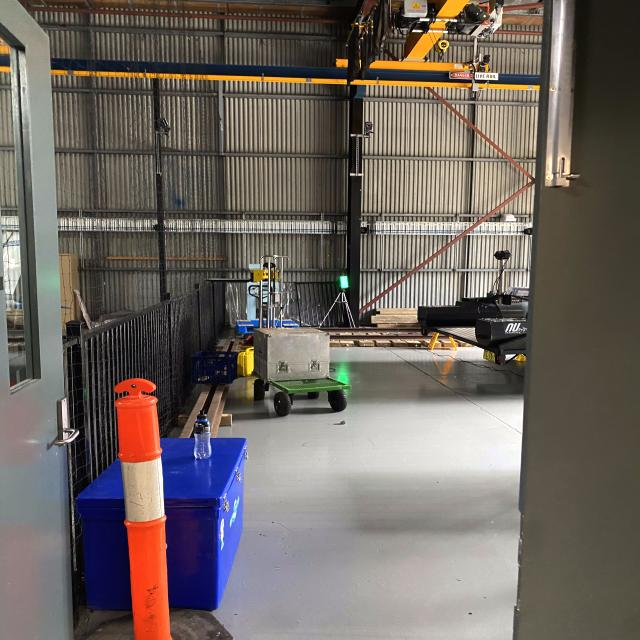matrix: (337, 275, 352, 290)
